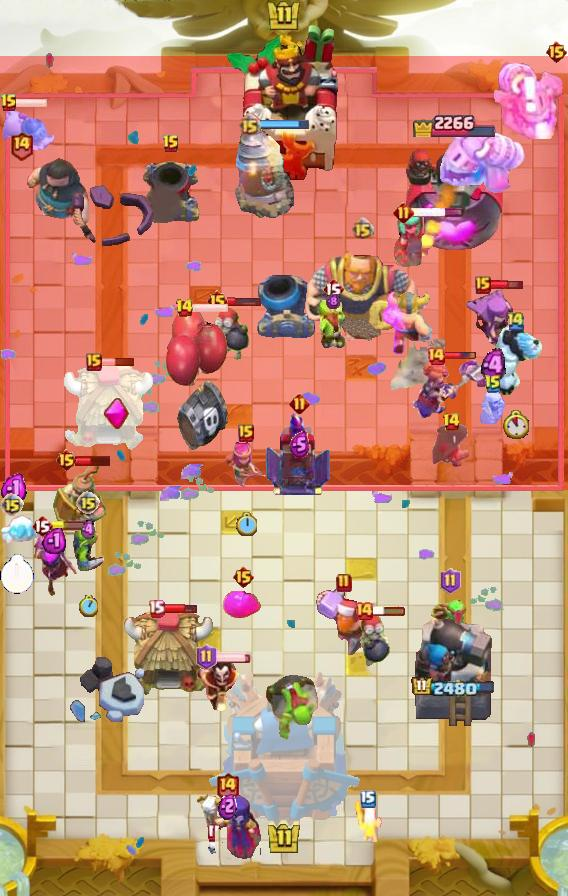archer: (223, 441, 269, 489)
bandit: (429, 422, 473, 470)
bar: (411, 207, 464, 218), (258, 119, 310, 130), (75, 454, 112, 467), (162, 602, 198, 615), (214, 651, 252, 663), (489, 278, 524, 291), (192, 302, 229, 314), (11, 97, 48, 109), (371, 605, 407, 617), (227, 295, 262, 307), (50, 521, 86, 531), (100, 357, 135, 367), (443, 351, 477, 361)
bar-level: (215, 771, 240, 802), (9, 130, 34, 161), (0, 493, 24, 517), (76, 491, 100, 515), (232, 565, 255, 589), (55, 448, 78, 472), (206, 289, 229, 313), (545, 40, 568, 64), (196, 644, 217, 670), (440, 568, 461, 594), (351, 217, 374, 240), (238, 113, 261, 136), (31, 514, 53, 538), (322, 277, 344, 301), (289, 393, 310, 414), (393, 202, 414, 223), (506, 310, 526, 331), (354, 601, 374, 621), (426, 346, 446, 366), (442, 412, 461, 432), (175, 298, 194, 318), (484, 374, 502, 394), (162, 134, 180, 154), (0, 93, 18, 113), (148, 599, 165, 618), (336, 573, 352, 593), (360, 790, 376, 808), (238, 424, 254, 442), (86, 353, 102, 371), (475, 276, 491, 294)
bomber: (212, 305, 250, 361), (358, 612, 394, 668)
cannoneer-tower: (403, 138, 504, 256), (410, 611, 496, 731)
clock: (0, 554, 34, 594), (503, 410, 529, 439), (236, 512, 257, 536), (79, 595, 98, 617)
dirt: (385, 339, 445, 397)
electro-wizard: (193, 657, 245, 711)
elite-barbarian: (382, 289, 433, 355)
elixir: (0, 473, 29, 505), (481, 348, 506, 383), (42, 526, 66, 554), (289, 431, 310, 458), (218, 792, 237, 820), (81, 519, 95, 541), (326, 293, 340, 310)
elixir-golem-small: (223, 591, 263, 619)
evolution-symbol: (101, 397, 129, 431)
goblin: (67, 517, 109, 575), (318, 299, 348, 349)
goblin-ball: (263, 672, 321, 744)
ice-spirit: (0, 513, 42, 551)
king-tower: (207, 669, 362, 826), (224, 23, 344, 181)
lumberjack: (312, 587, 376, 657)
mortar: (140, 158, 202, 226), (257, 274, 317, 338)
mother-witch: (466, 288, 521, 351), (30, 527, 78, 599)
rascal-girl: (392, 211, 438, 267)
royal-hog: (0, 108, 54, 154)
royal-recruit: (52, 463, 108, 529)
skeleton: (353, 799, 383, 845), (480, 388, 506, 424)
spear-goblin: (428, 597, 472, 645)
tower-bar: (410, 108, 496, 137), (411, 676, 496, 699)
valkyrie-evolution: (411, 356, 492, 421)
witch: (193, 792, 261, 860)
